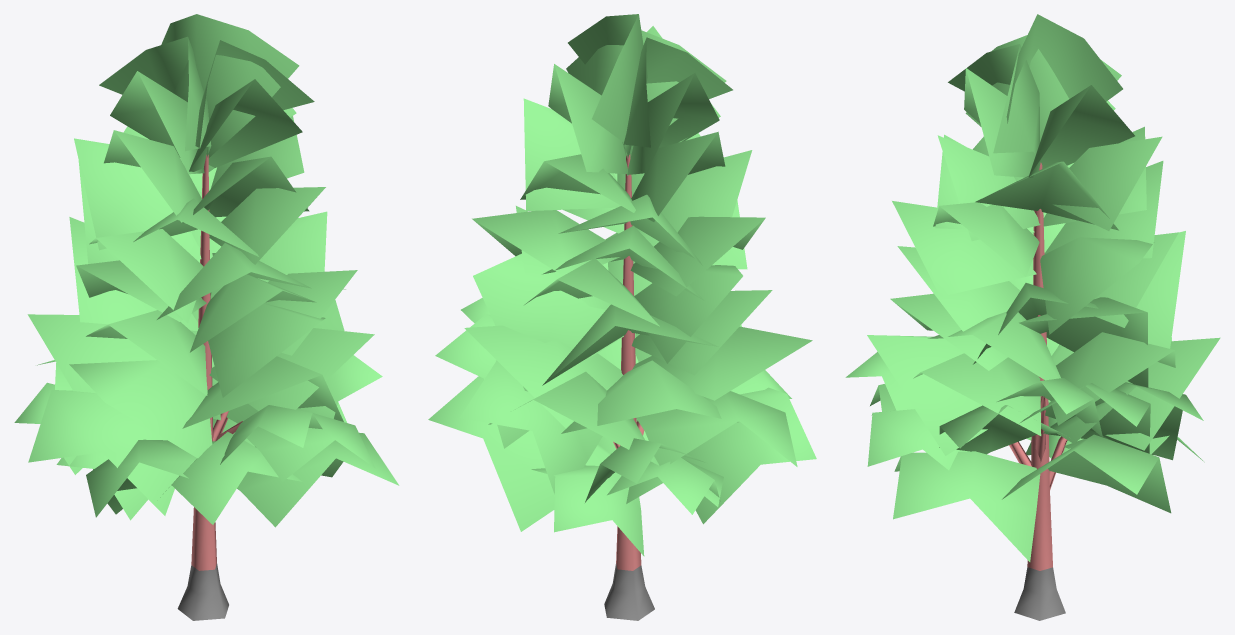
File: Oren_elf_tree03.gltf
The picture shows the model from 3 angles, left to right: view 1: azimuth 30°, elevation 25°; view 2: azimuth 150°, elevation 25°; view 3: azimuth 270°, elevation 25°; orthographic projection.
Parts seen in each view (by area): view 1: Oren_elf_tree03; view 2: Oren_elf_tree03; view 3: Oren_elf_tree03.
Part boxes in pixels (x1,y1,x2,y2): Oren_elf_tree03: [14, 14, 399, 620]; Oren_elf_tree03: [428, 14, 816, 620]; Oren_elf_tree03: [845, 14, 1220, 620].
Bounding box in the file's own units: 5.3 × 9.25 × 5.33.
